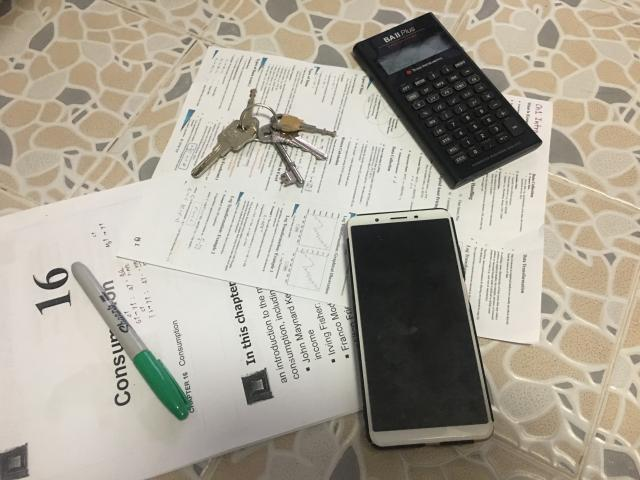Keys: (191, 89, 336, 185)
Mobile phone: (348, 209, 492, 448)
Pen: (71, 261, 191, 420)
paper: (0, 133, 457, 479), (119, 48, 552, 344)
